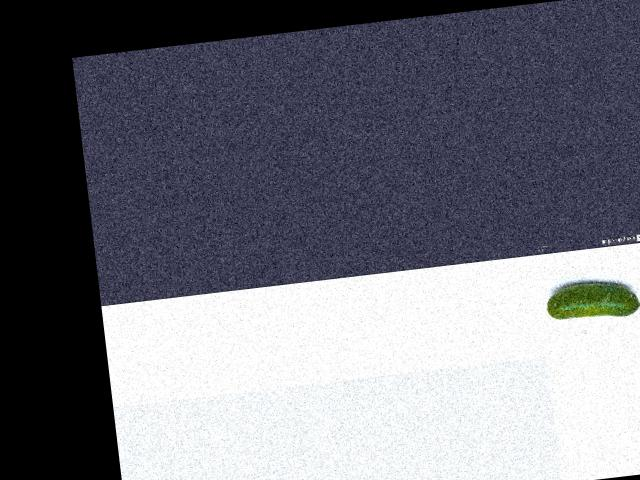cucumber: (543, 276, 640, 325)
